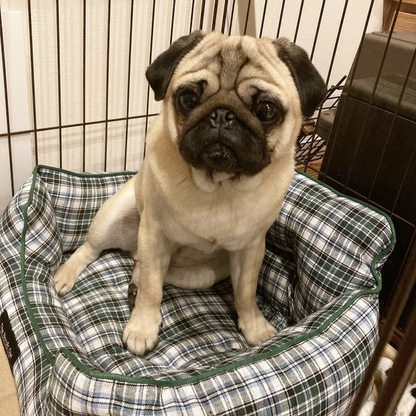Pug: (49, 26, 332, 361)
